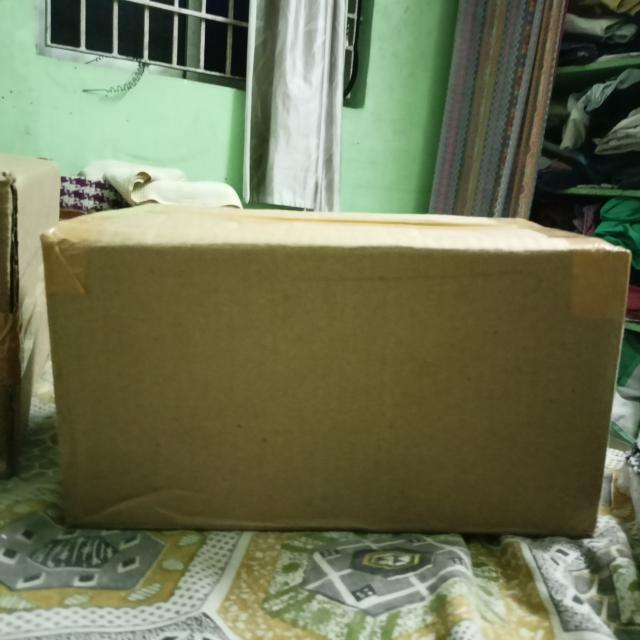box: (41, 239, 631, 539)
